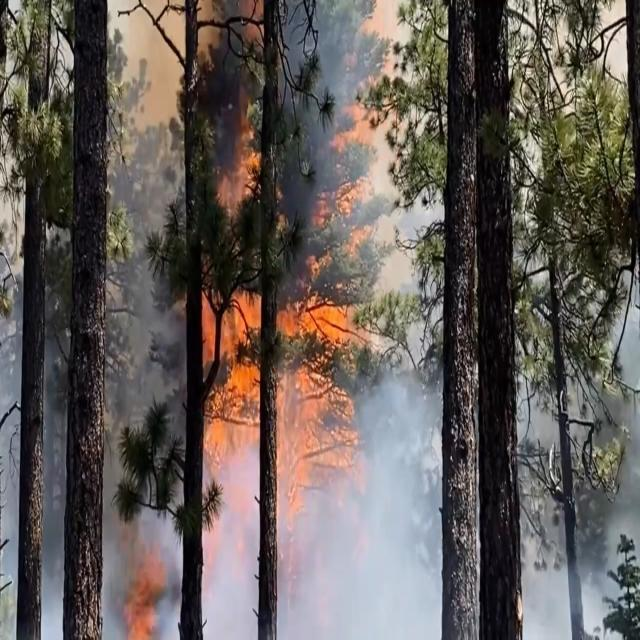Fire: (128, 19, 360, 640)
